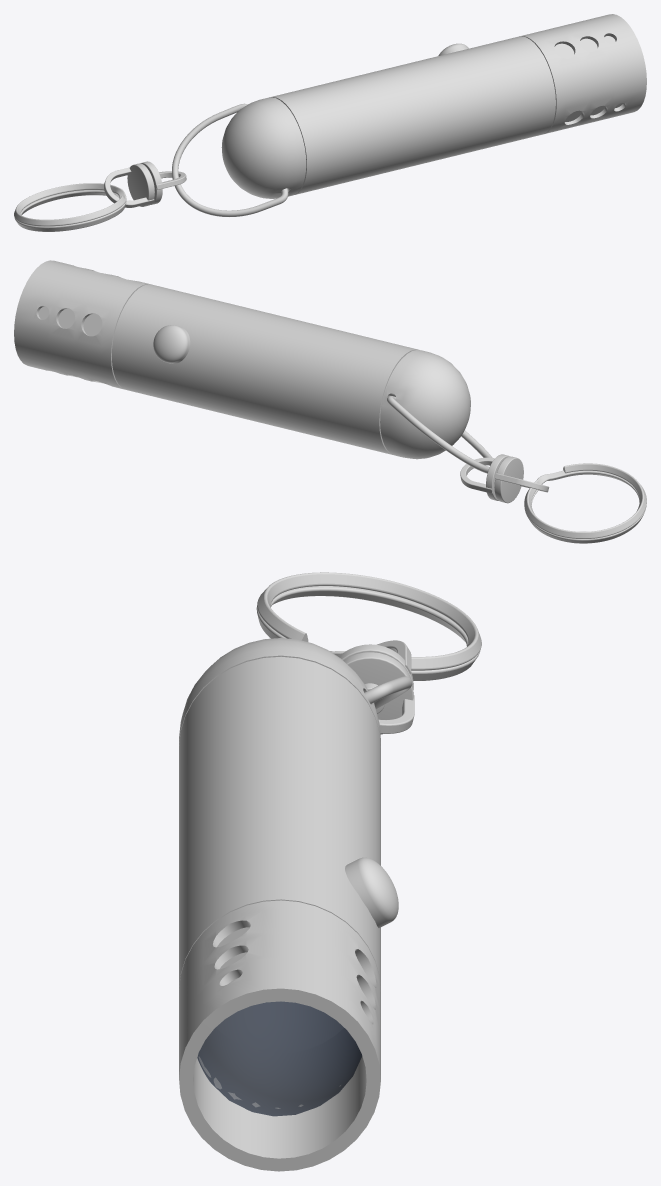
Rendered from flashlight_fbx.fbx.
3 renders of one model, top to bottom at view 1: azimuth 30°, elevation 25°; view 2: azimuth 150°, elevation 25°; view 3: azimuth 270°, elevation 25°, orthographic. The views are drawn at different scales.
Parts seen in each view (by area): view 1: flashlight; view 2: flashlight; view 3: flashlight, Glass.
Boxes of the visible parts, x1=… form: flashlight: x1=14, y1=14, x2=646, y2=231; flashlight: x1=14, y1=260, x2=646, y2=543; flashlight: x1=179, y1=572, x2=481, y2=1171; Glass: x1=197, y1=1001, x2=362, y2=1116.
Size of the model in its own units: 195 by 29.9 by 44.33.
